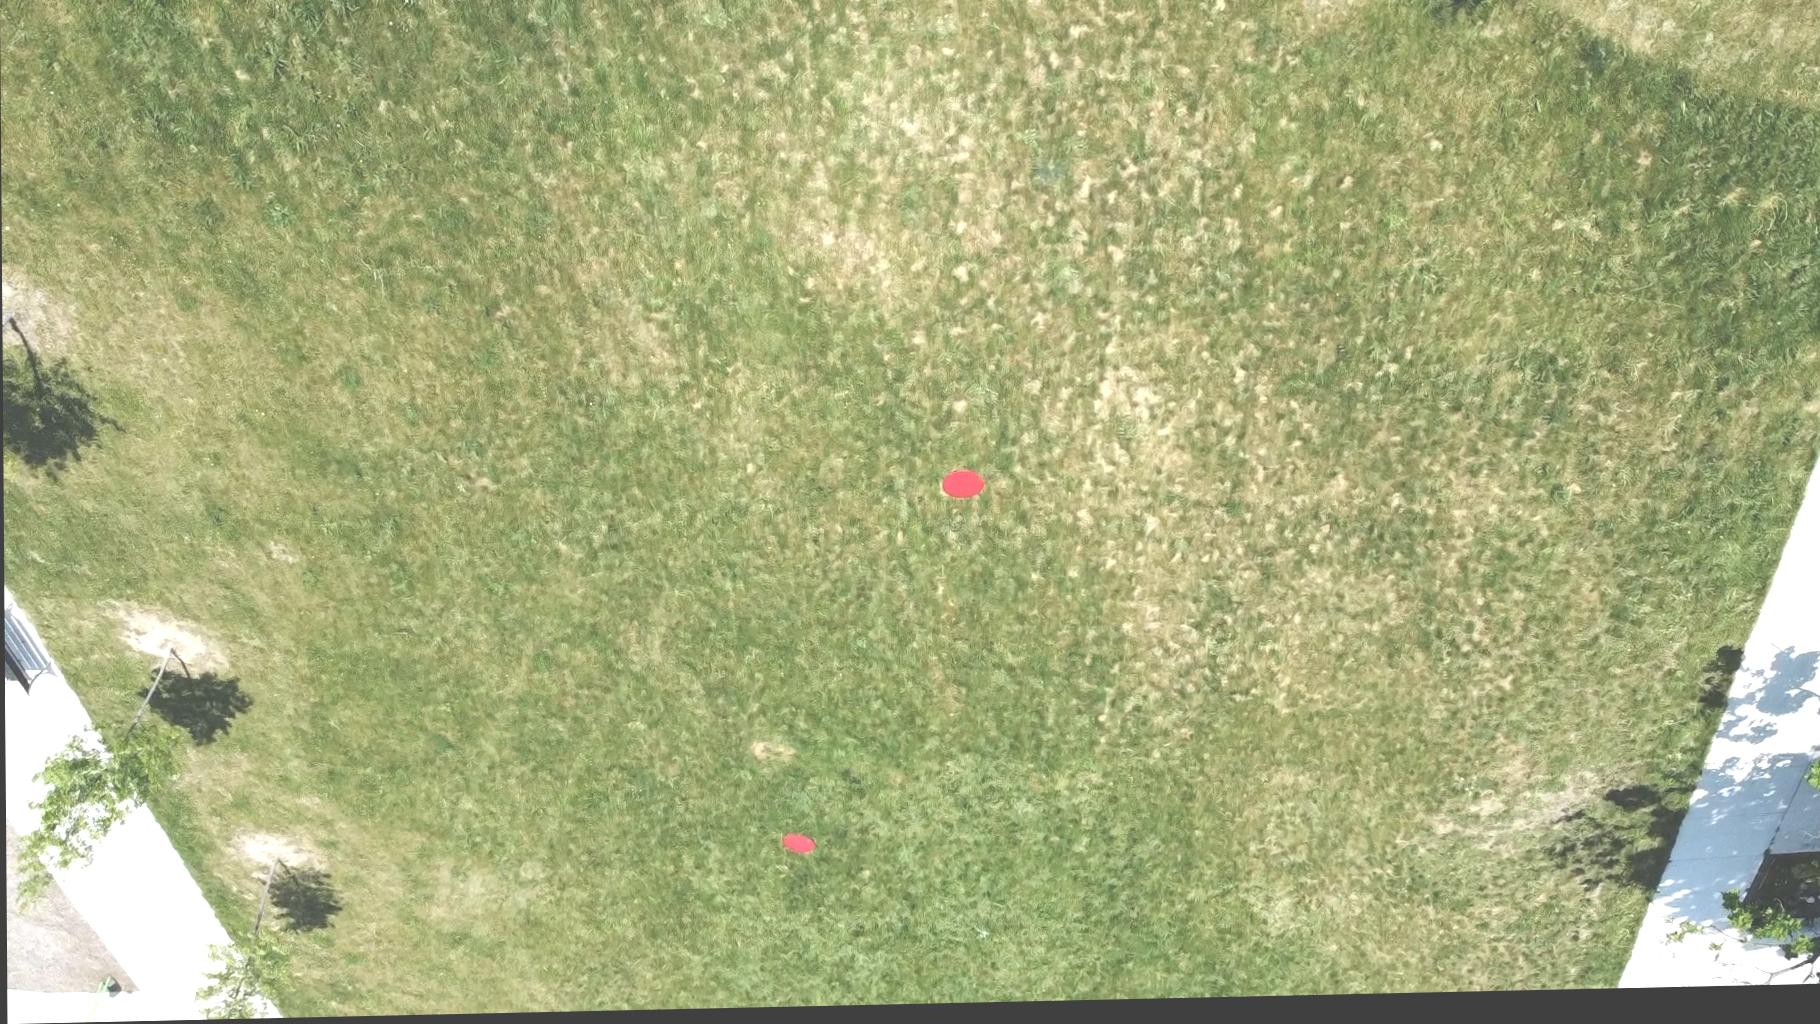Red: (940, 473, 986, 506), (777, 835, 819, 858)
